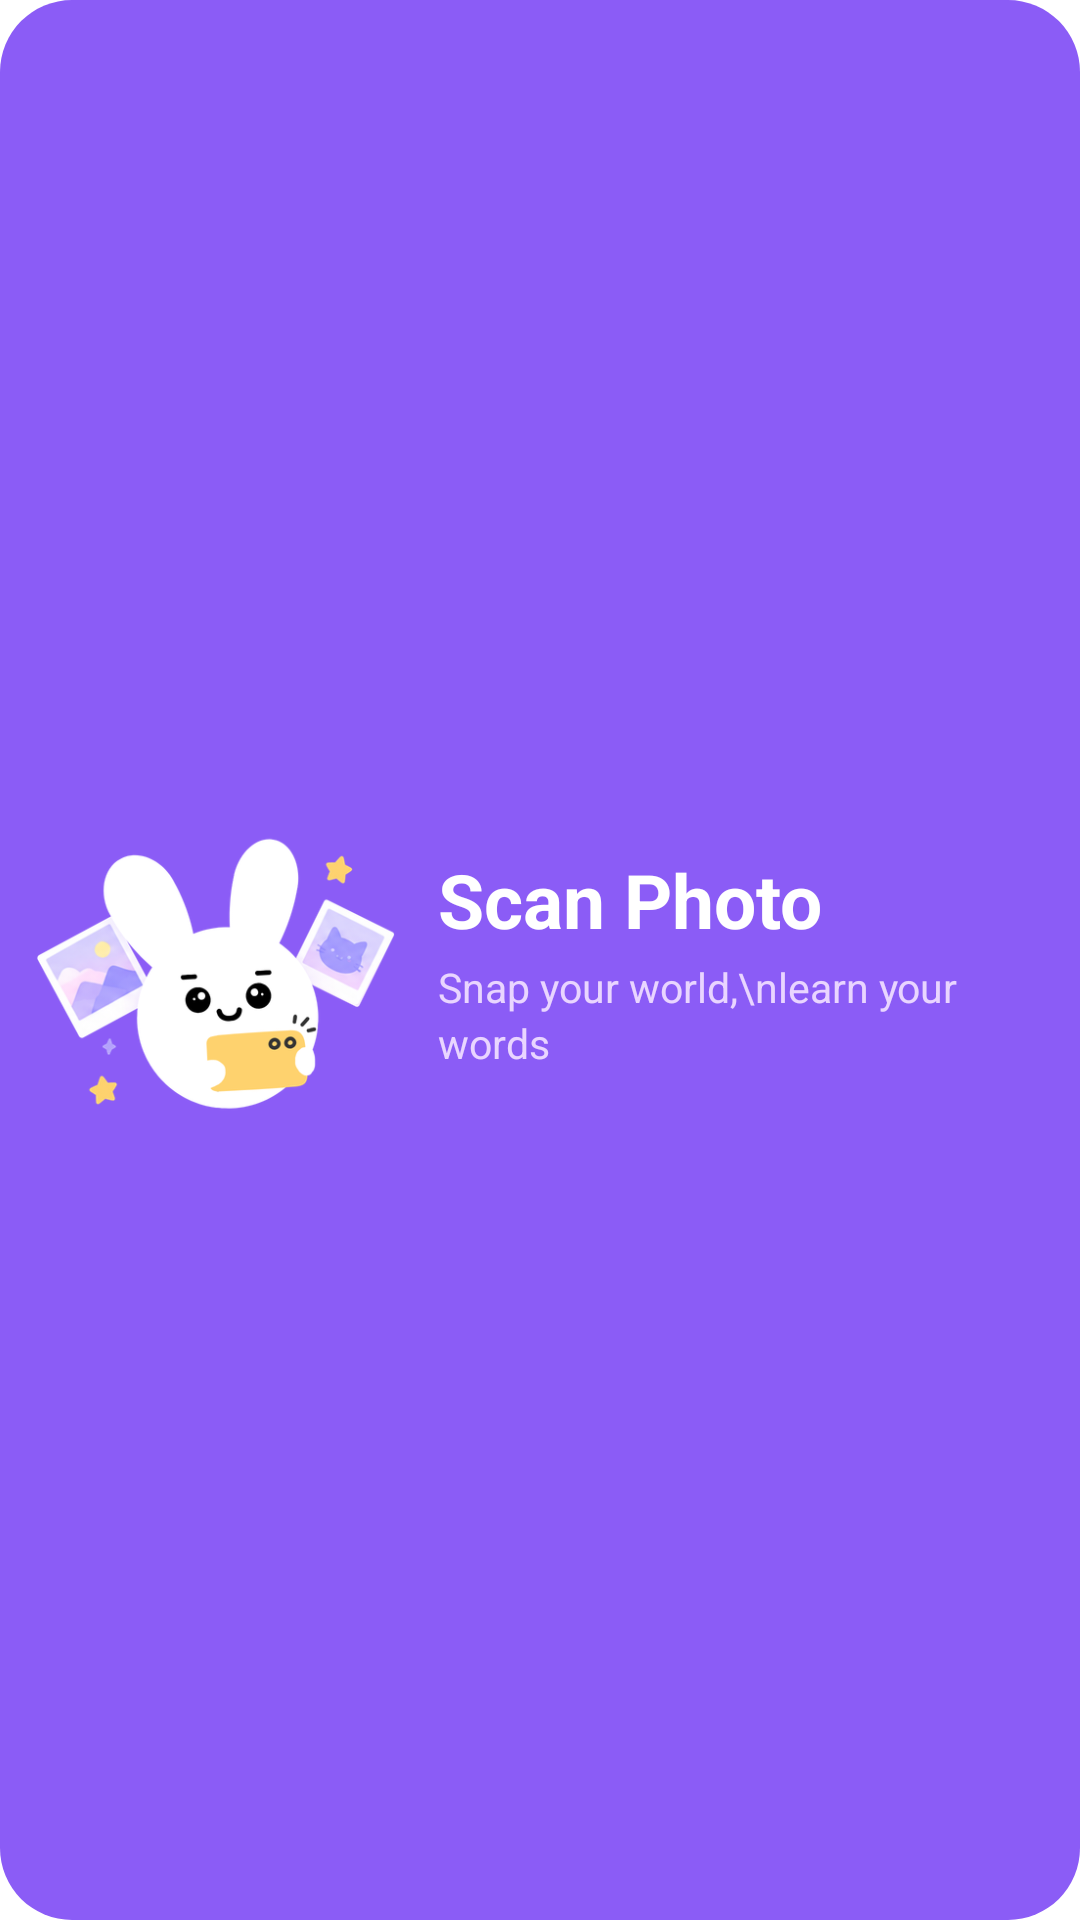

Icons on this 1080w x 1920h Android screen, each with its box as (x1, y1, x2, y2):
widget mascot scan: (37, 839, 394, 1109)
